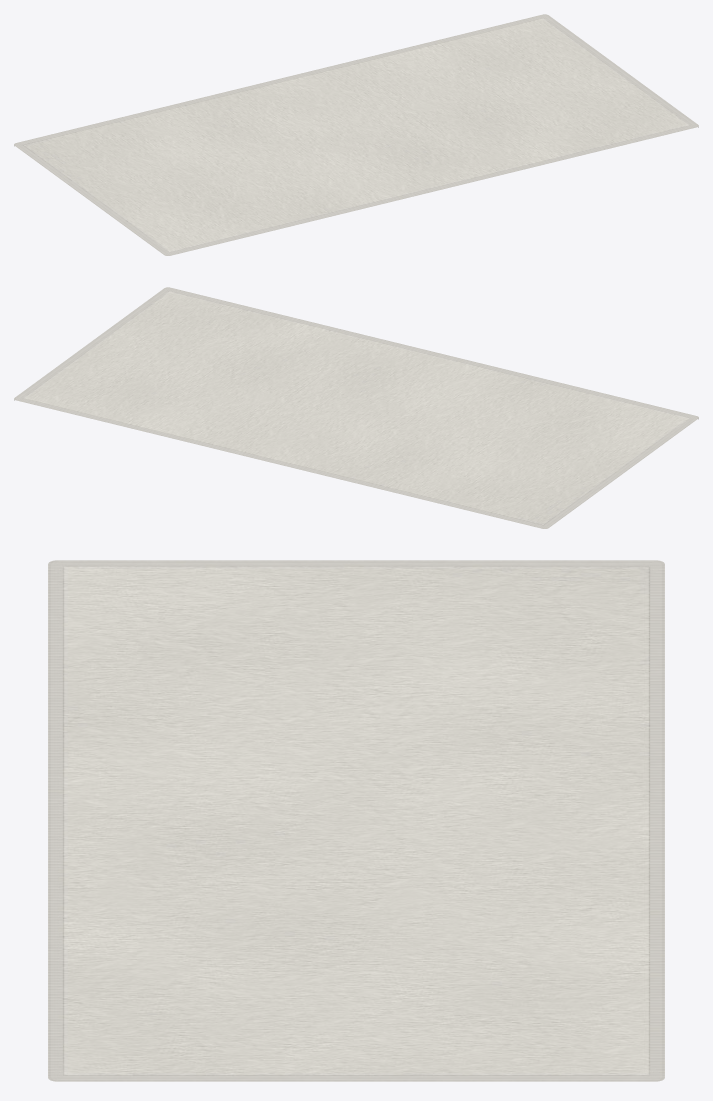
File: ivory_module_r90.glb
The picture shows the model from 3 angles, top to bottom: view 1: azimuth 30°, elevation 25°; view 2: azimuth 150°, elevation 25°; view 3: azimuth 270°, elevation 25°; orthographic projection. The views are drawn at different scales.
Visible parts, largest first — view 1: reliv_ivory_module_r90; view 2: reliv_ivory_module_r90; view 3: reliv_ivory_module_r90.
Part boxes in pixels (box(x1,y1,x2,y2)): reliv_ivory_module_r90: box(14, 14, 698, 255); reliv_ivory_module_r90: box(14, 287, 698, 528); reliv_ivory_module_r90: box(48, 560, 664, 1081).
Size of the model in its own units: 2 by 0.009 by 1.
2 materials, 1 textured.
